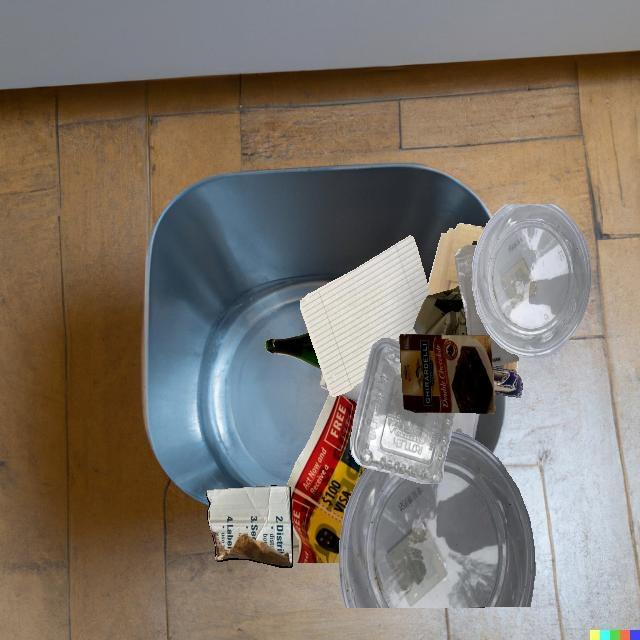cardboard: (436, 293, 523, 387), (399, 334, 495, 413), (206, 485, 293, 568), (428, 223, 485, 293)
glass: (265, 333, 321, 369)
paper: (300, 235, 431, 397), (287, 393, 366, 563), (413, 285, 468, 335), (359, 391, 479, 413), (452, 413, 479, 440), (327, 385, 351, 395), (340, 395, 359, 402), (351, 380, 363, 391), (320, 372, 327, 385)
plastic: (339, 431, 535, 608), (472, 204, 591, 358), (350, 338, 455, 483), (454, 245, 490, 336), (490, 336, 519, 367)
